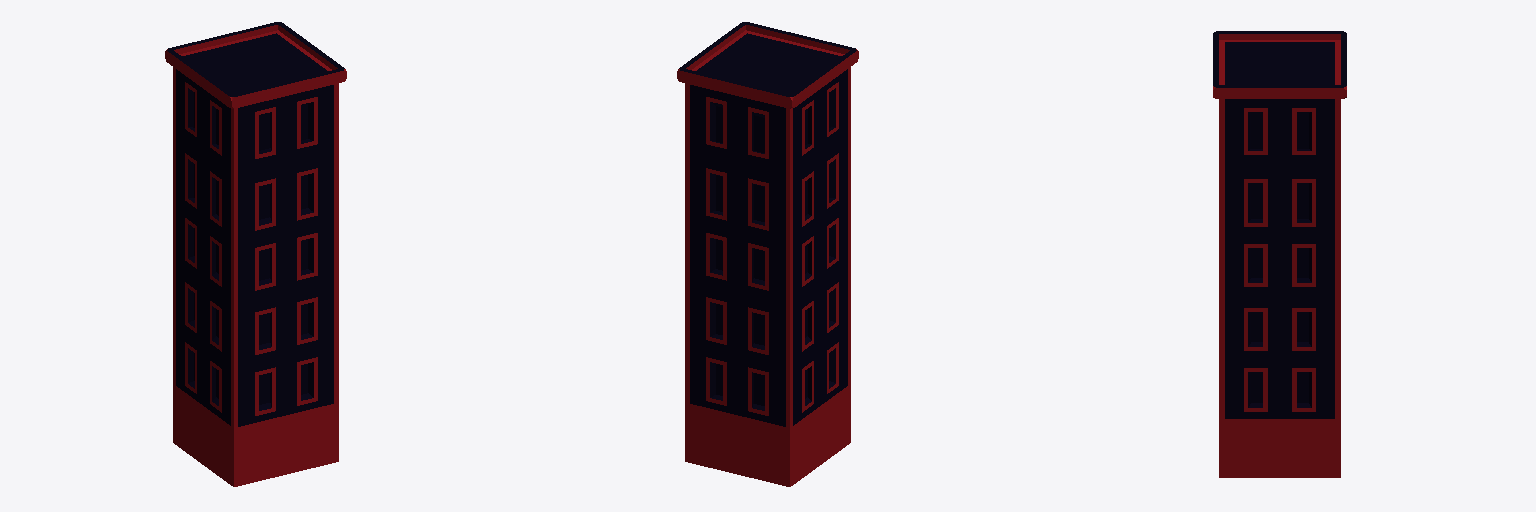
The model's file is Building.obj.
3 renders of one model, left to right at view 1: azimuth 30°, elevation 25°; view 2: azimuth 150°, elevation 25°; view 3: azimuth 270°, elevation 25°, orthographic.
Parts seen in each view (by area): view 1: Building; view 2: Building; view 3: Building.
Part boxes in pixels (bbox=[...]): Building: bbox=[165, 22, 346, 486]; Building: bbox=[677, 22, 858, 486]; Building: bbox=[1213, 31, 1346, 477].
Size of the model in its own units: 21.34 by 69.4 by 21.34.